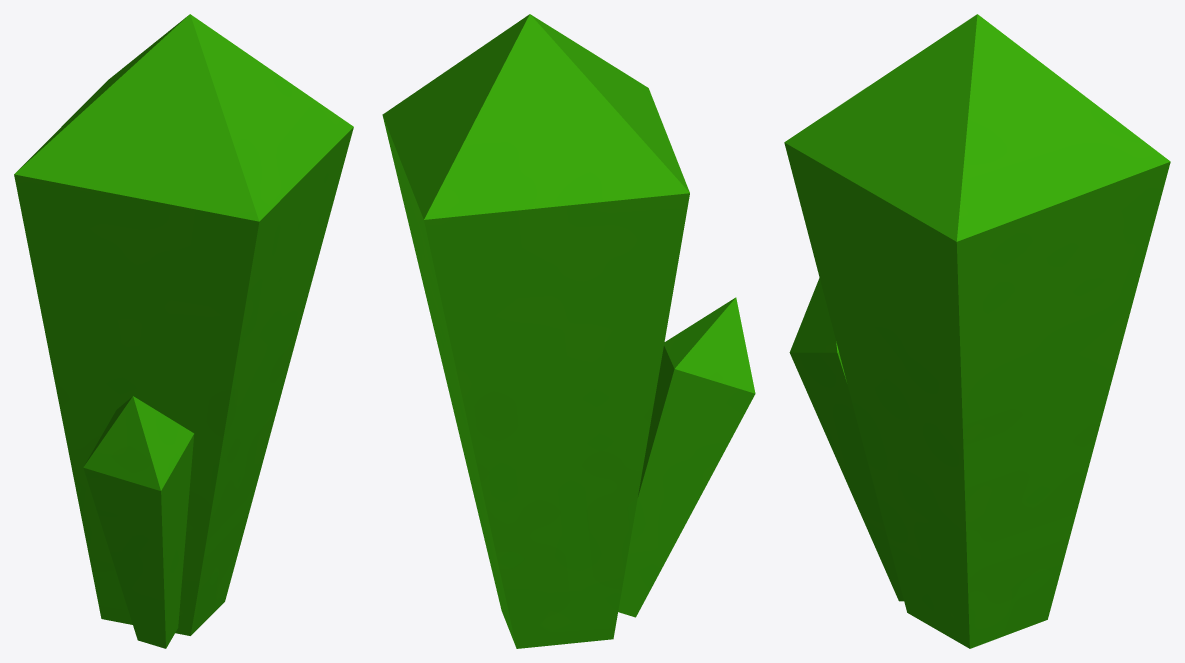
3 renders of one model, left to right at view 1: azimuth 30°, elevation 25°; view 2: azimuth 150°, elevation 25°; view 3: azimuth 270°, elevation 25°, orthographic. The views are drawn at different scales.
Visible parts, largest first — view 1: 8; view 2: 8; view 3: 8.
Part boxes in pixels (x1,y1,x2,y2): 8: [14, 14, 353, 648]; 8: [382, 14, 755, 648]; 8: [784, 14, 1170, 648].
Size of the model in its own units: 64.18 by 114 by 64.25.
1 material, 1 textured.
